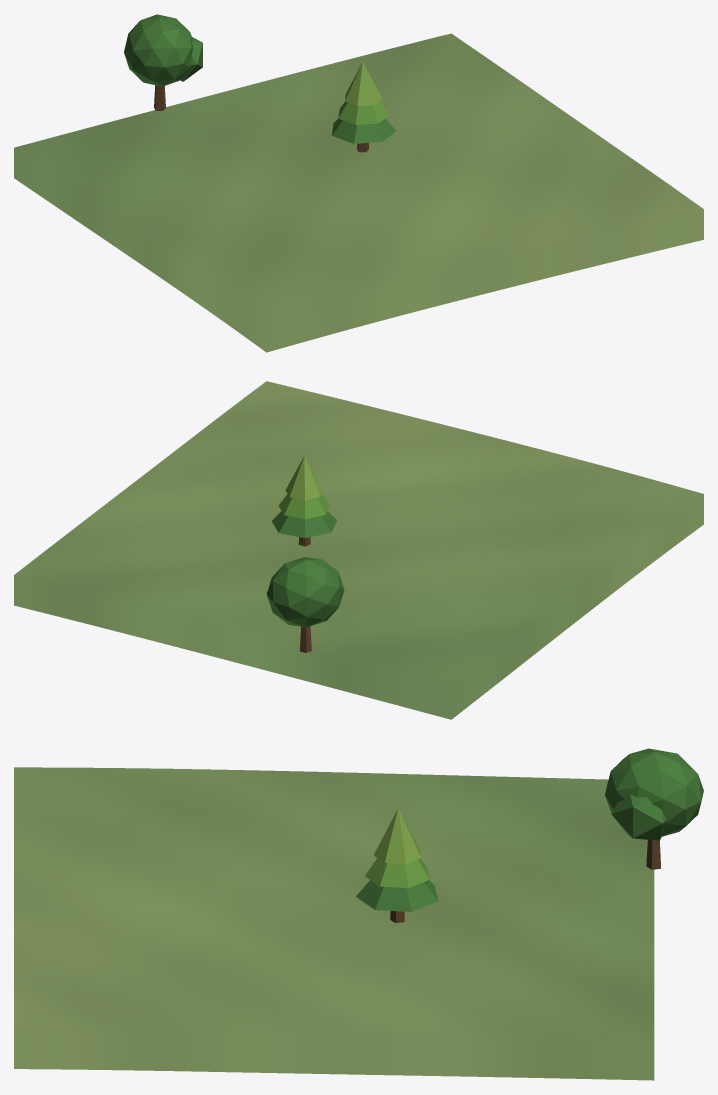
3 views of the same model, one above another, from view 1: azimuth 30°, elevation 25°; view 2: azimuth 150°, elevation 25°; view 3: azimuth 270°, elevation 25° (orthographic). The views are drawn at different scales.
Visible parts, largest first — view 1: terrain, scenery; view 2: terrain, scenery; view 3: terrain, scenery.
Part boxes in pixels (x1,y1,x2,y2): terrain: (14,33,703,352); scenery: (124,14,395,152); terrain: (14,381,703,719); scenery: (266,456,344,652); terrain: (14,767,654,1080); scenery: (356,748,703,922).
Bounding box in the file's own units: 30 × 8.52 × 32.32.
